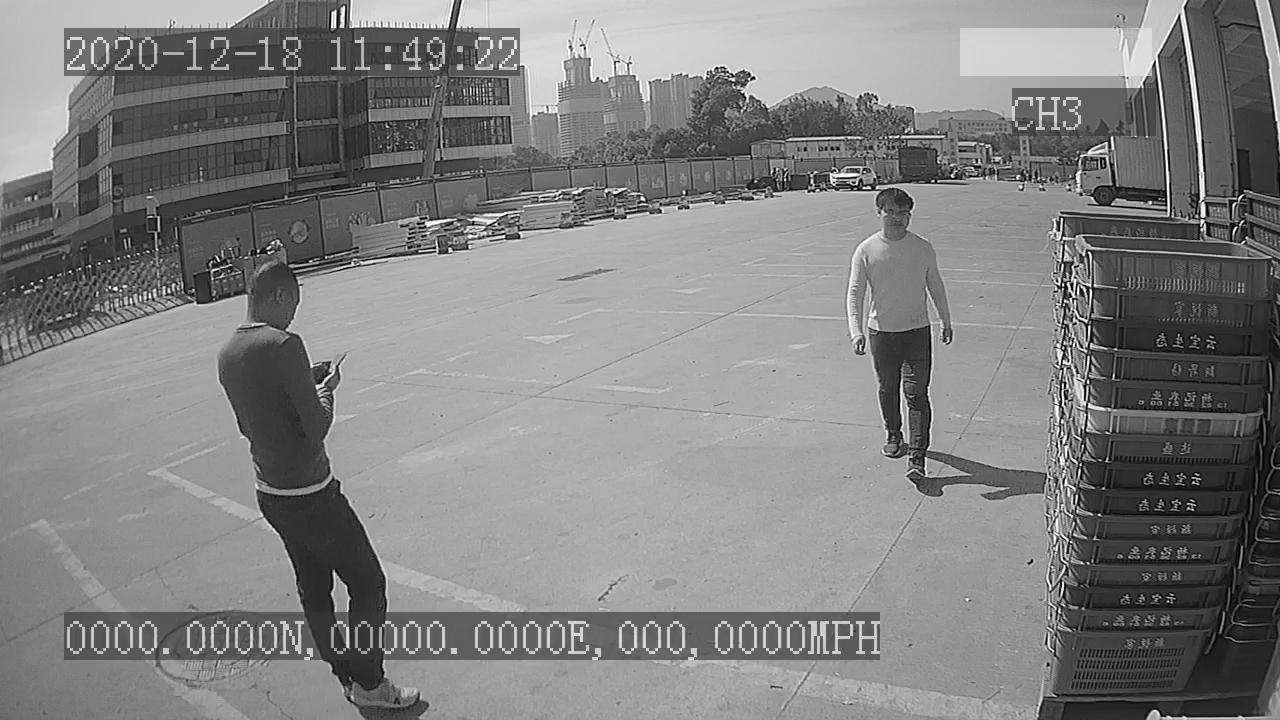person: (840, 186, 958, 490)
